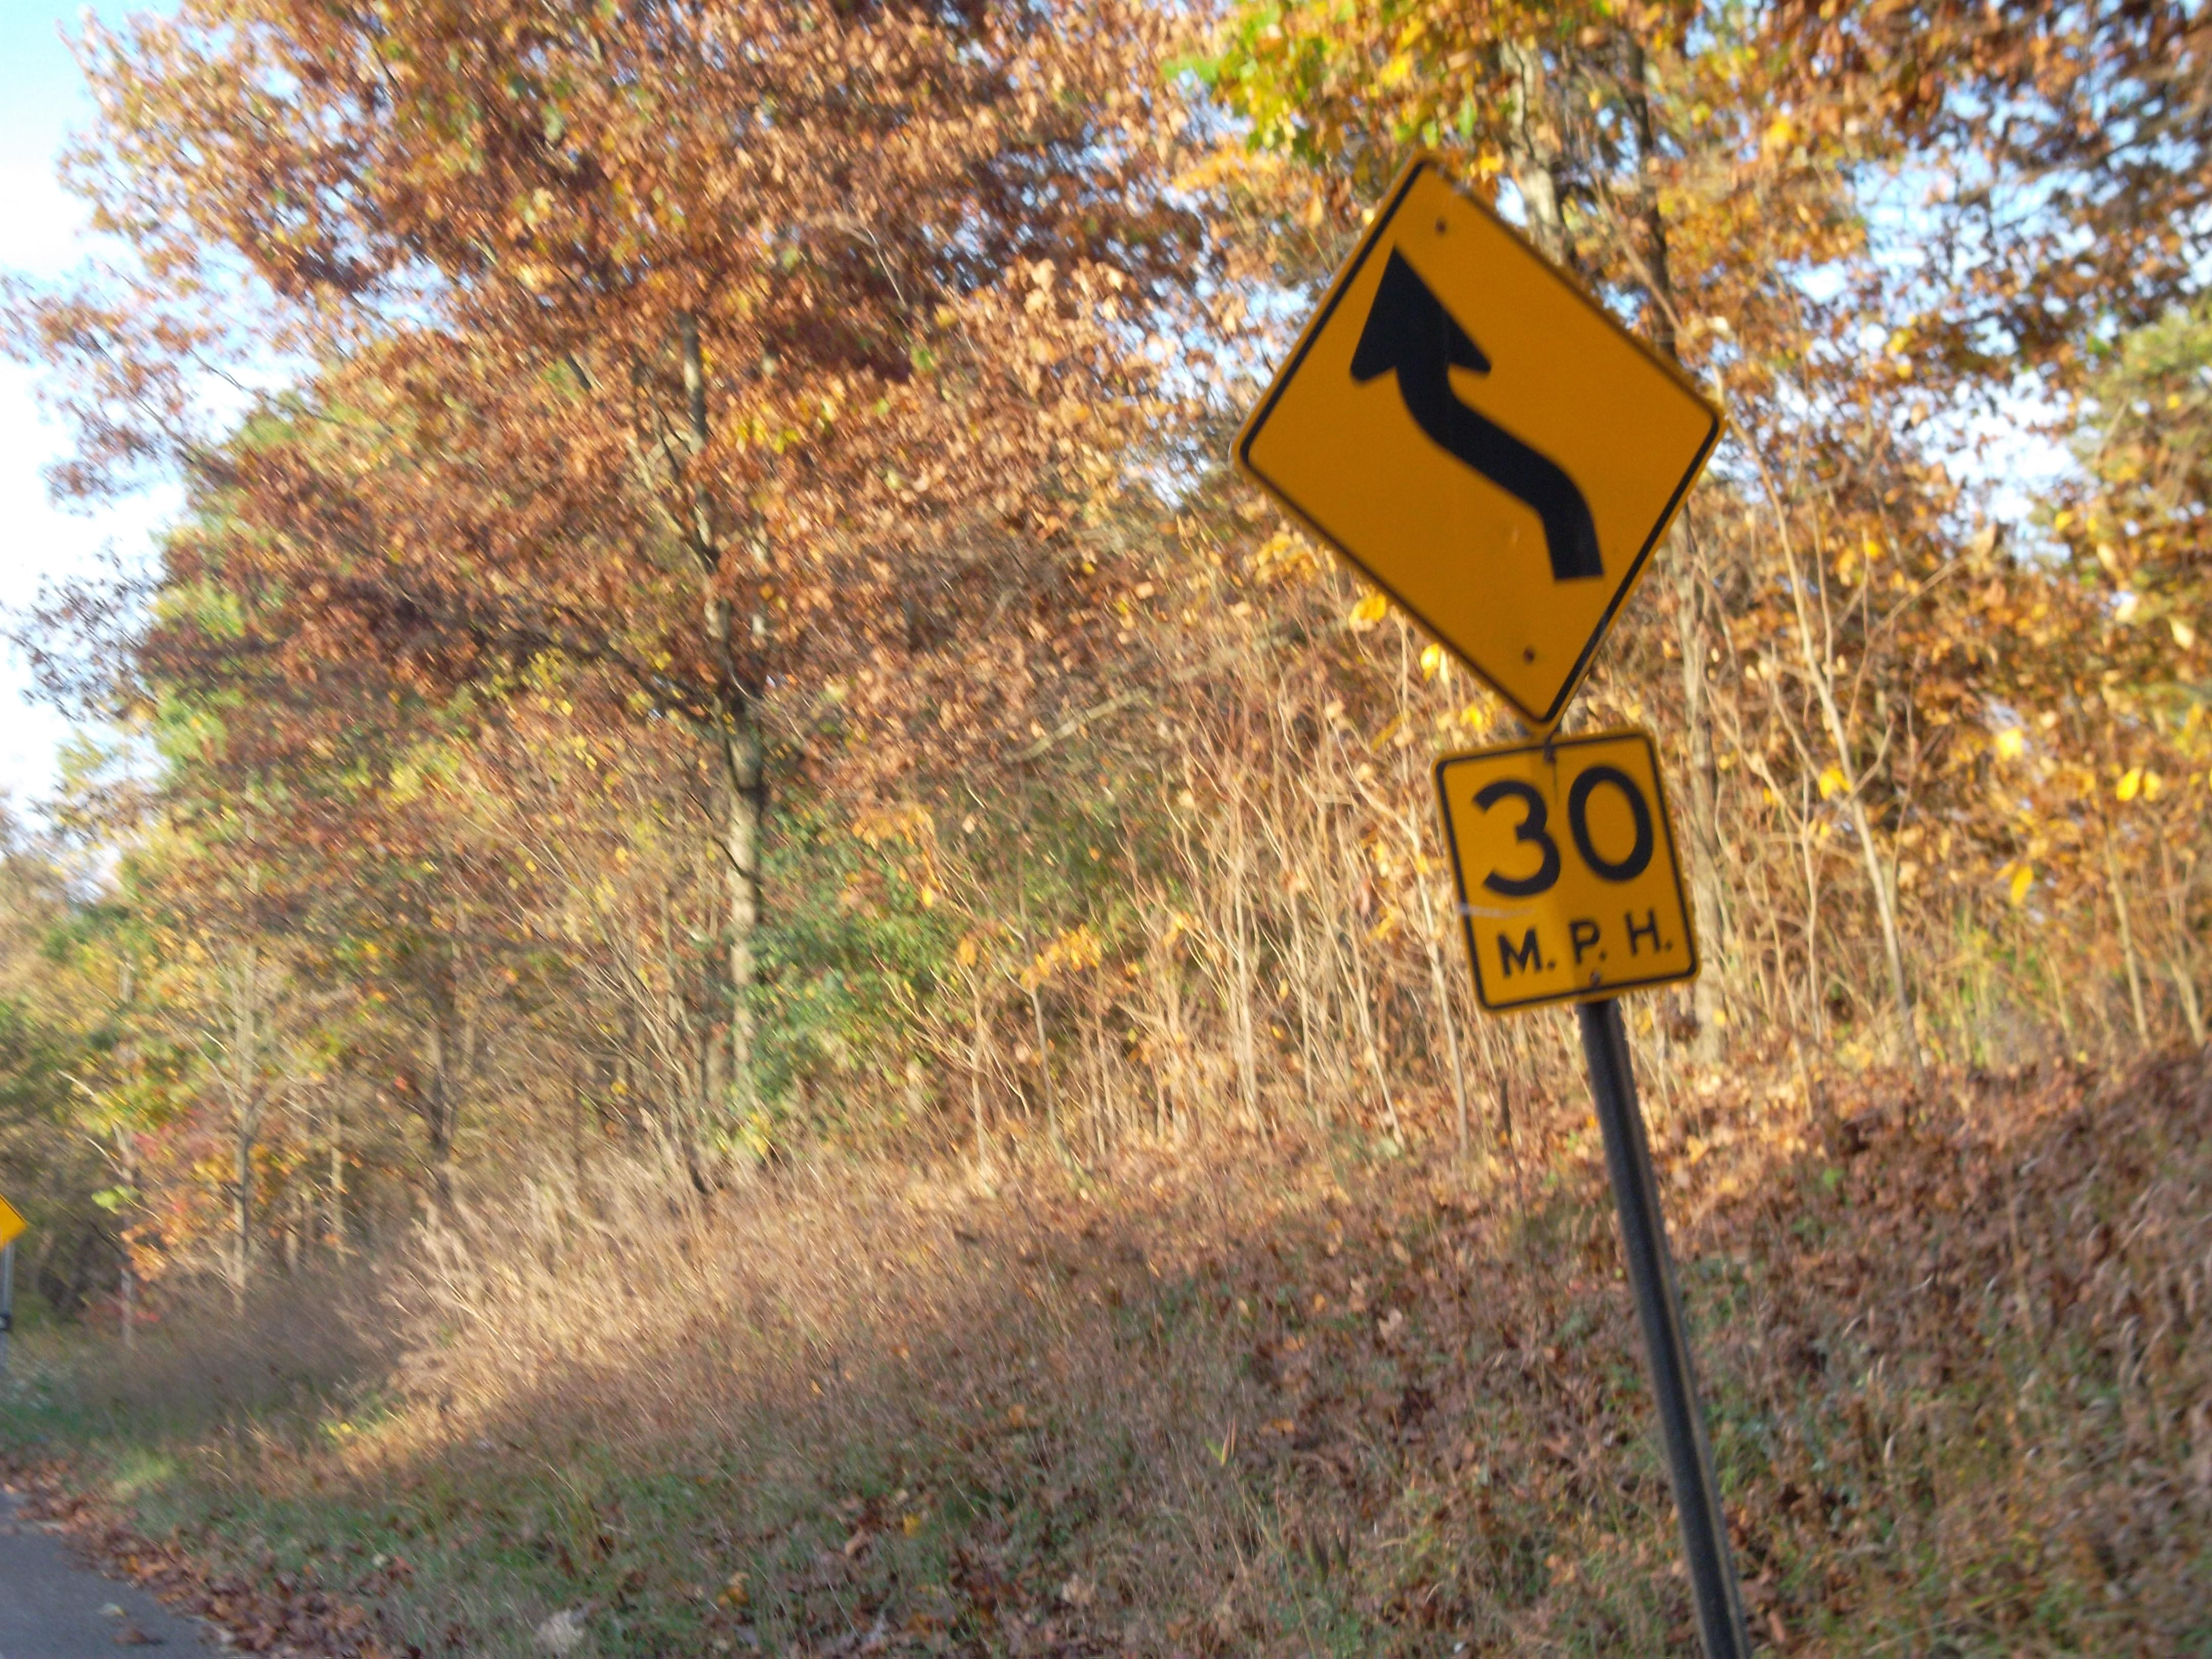warning: (1231, 155, 1733, 741), (1402, 720, 1724, 1044)
